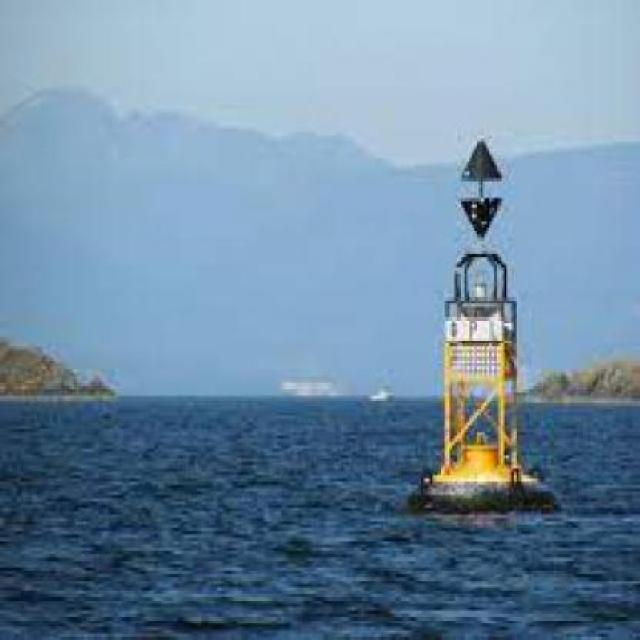buoy: (401, 130, 567, 527)
